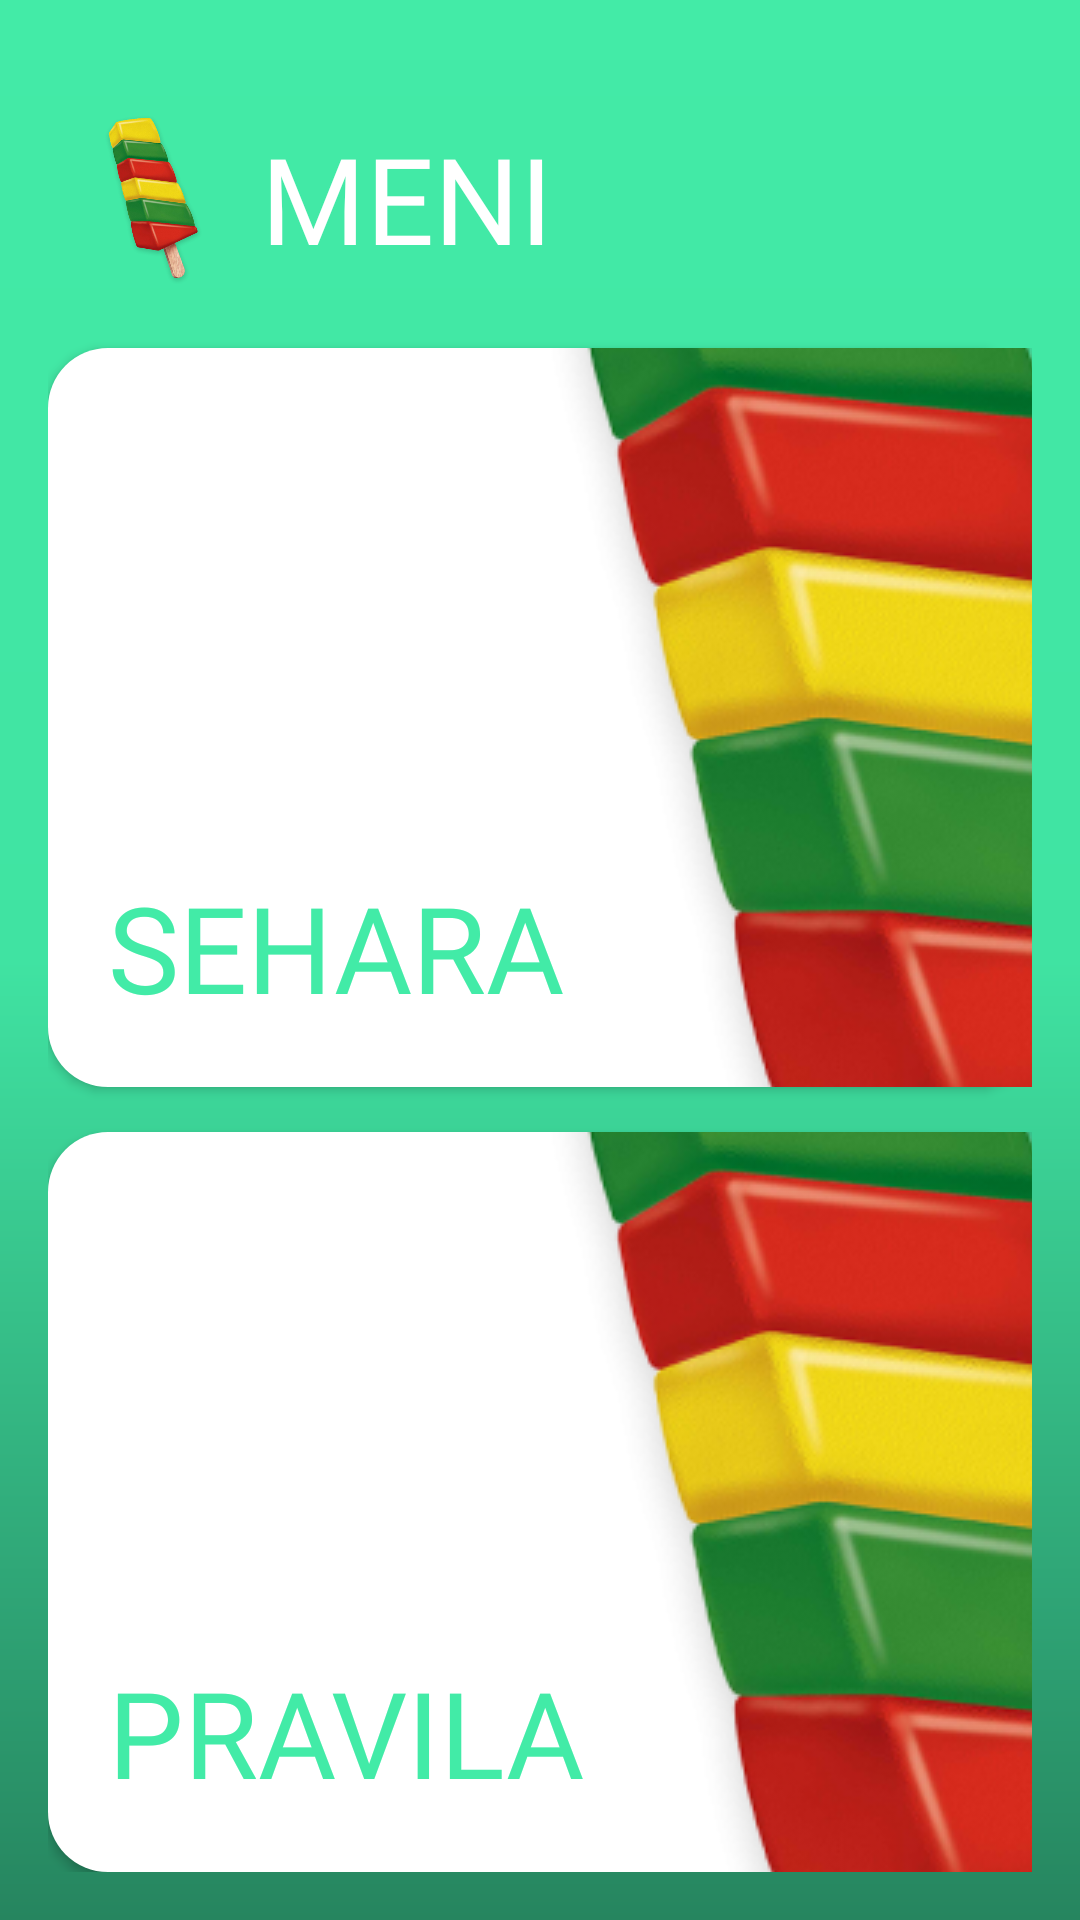

Screen size 1080px×1920px. Icon name, then its center in pixels as (x=x, y=y):
kontiki: (x=153, y=199)
